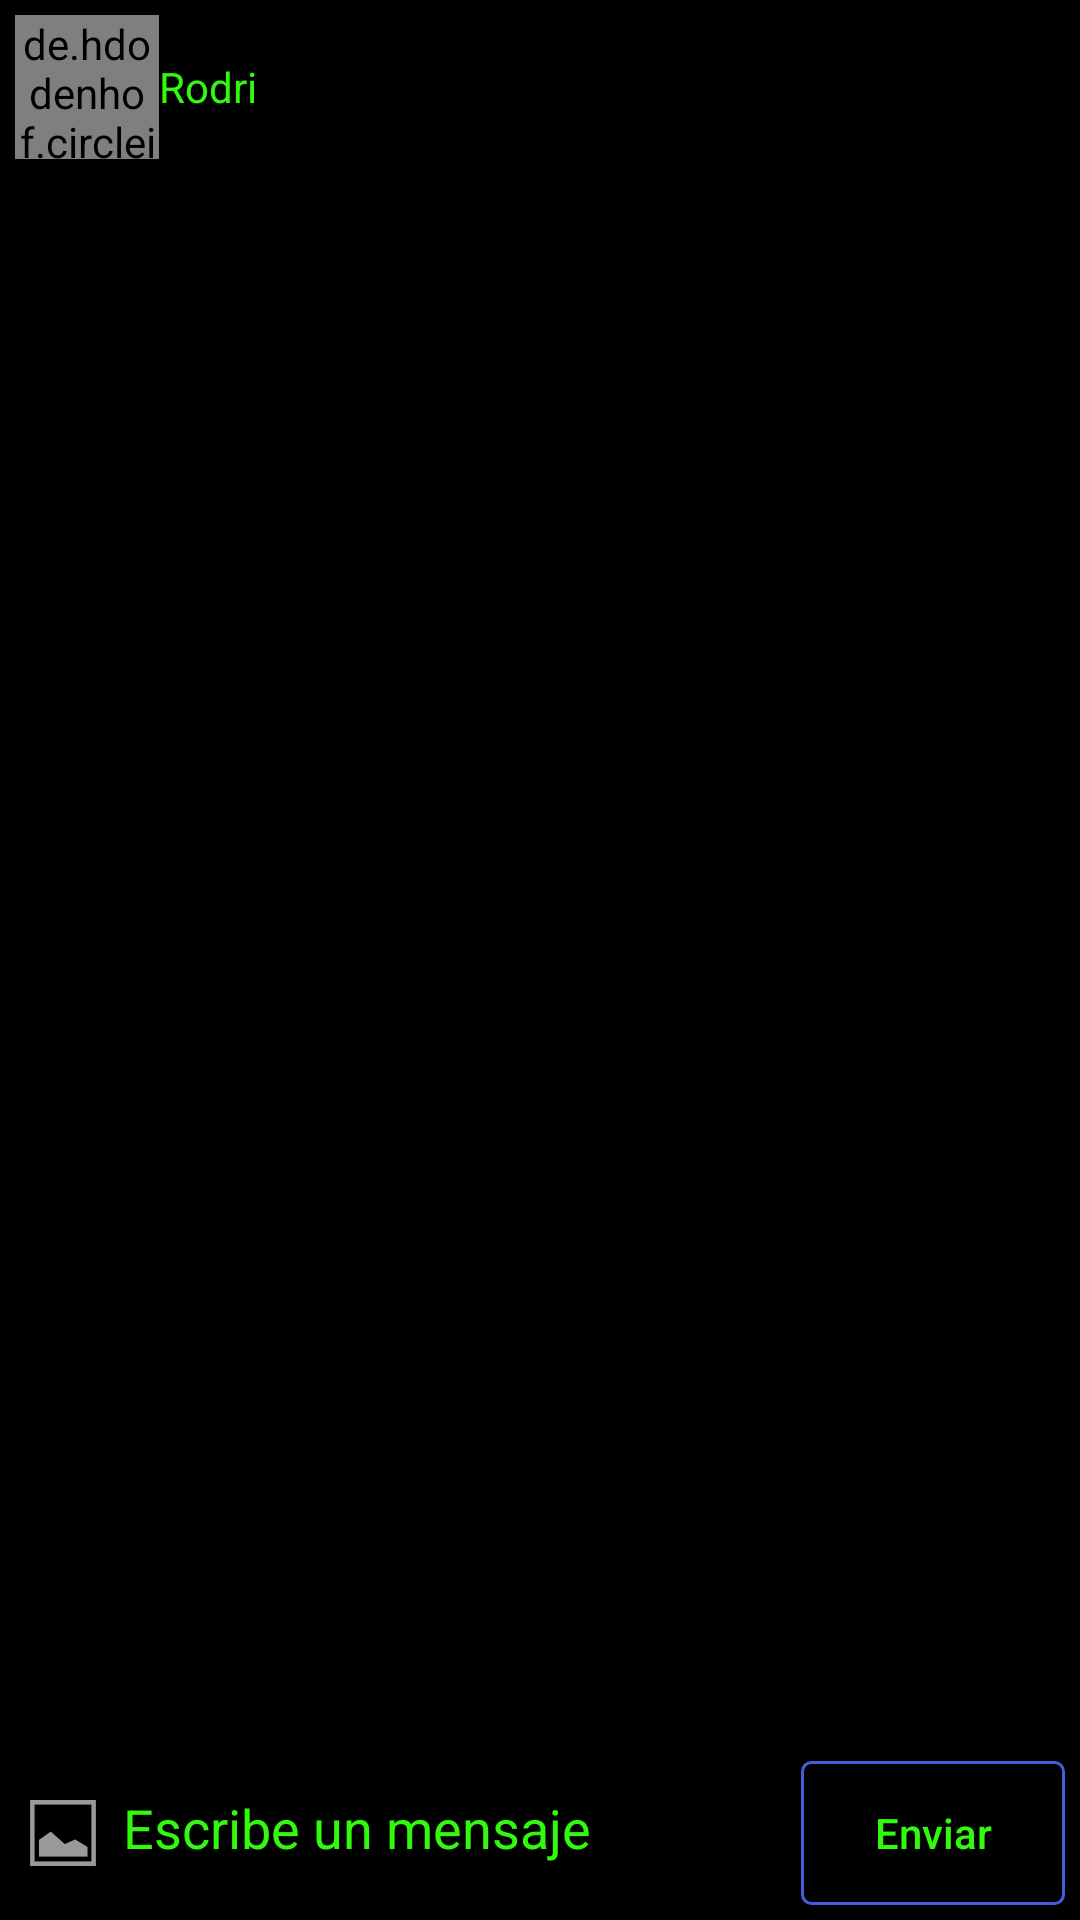

Icons on this 1080x1920 Android screen, each with its box as (x1, y1, x2, y2):
gallery: (30, 1800, 96, 1866)
